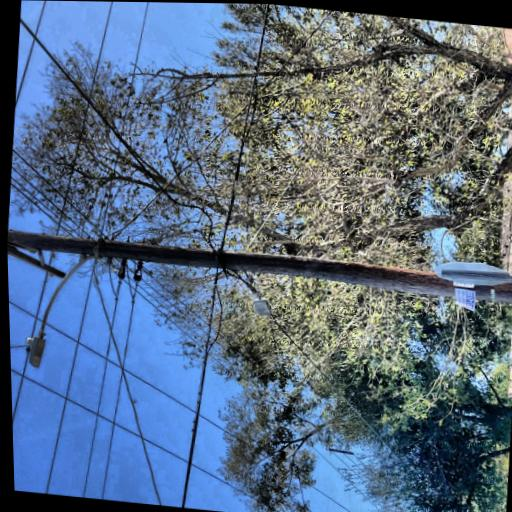pole: (77, 15, 180, 503)
street light: (15, 112, 136, 201)
